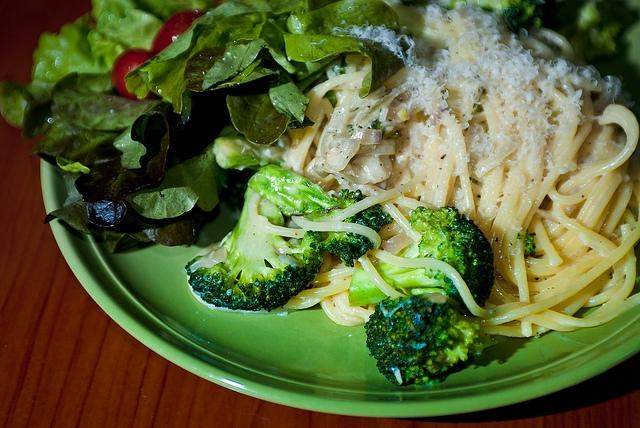broccoli: (184, 187, 323, 312), (248, 164, 394, 268), (348, 206, 494, 308), (364, 292, 498, 385), (434, 0, 546, 41), (213, 137, 272, 170), (580, 24, 624, 63)
